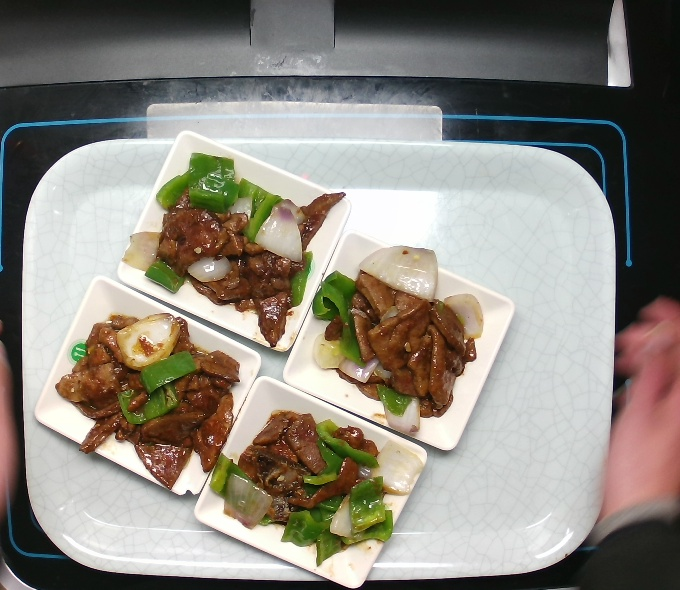wcq-ZhuGan: (53, 306, 236, 481), (209, 395, 392, 570), (314, 239, 497, 414), (133, 146, 316, 321)
